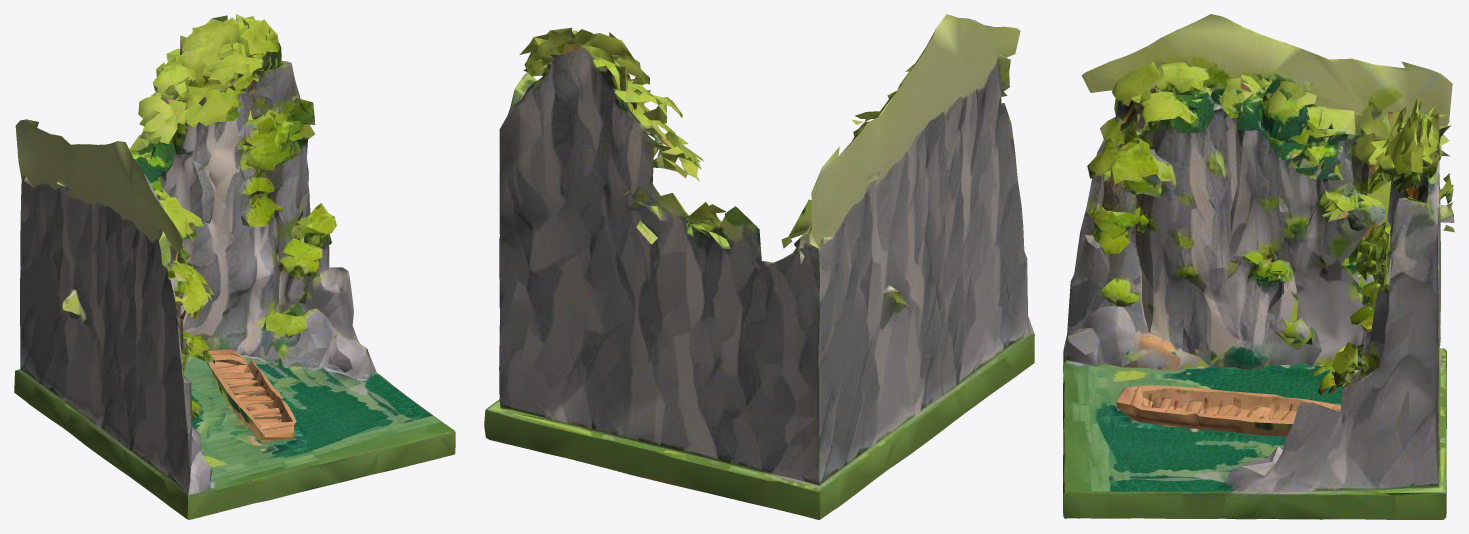
File: geibikei.glb
The picture shows the model from 3 angles, left to right: view 1: azimuth 30°, elevation 25°; view 2: azimuth 150°, elevation 25°; view 3: azimuth 270°, elevation 25°; orthographic projection. The views are drawn at different scales.
Visible parts, largest first — view 1: logan-textured.obj; view 2: logan-textured.obj; view 3: logan-textured.obj.
Boxes of the visible parts, x1,y1,x2,y2 form: logan-textured.obj: (14, 14, 455, 519); logan-textured.obj: (484, 14, 1034, 519); logan-textured.obj: (1063, 14, 1454, 519).
Bounding box in the file's own units: 0.8988 × 1 × 0.9551.
Materials: 1 (1 with a texture image).
